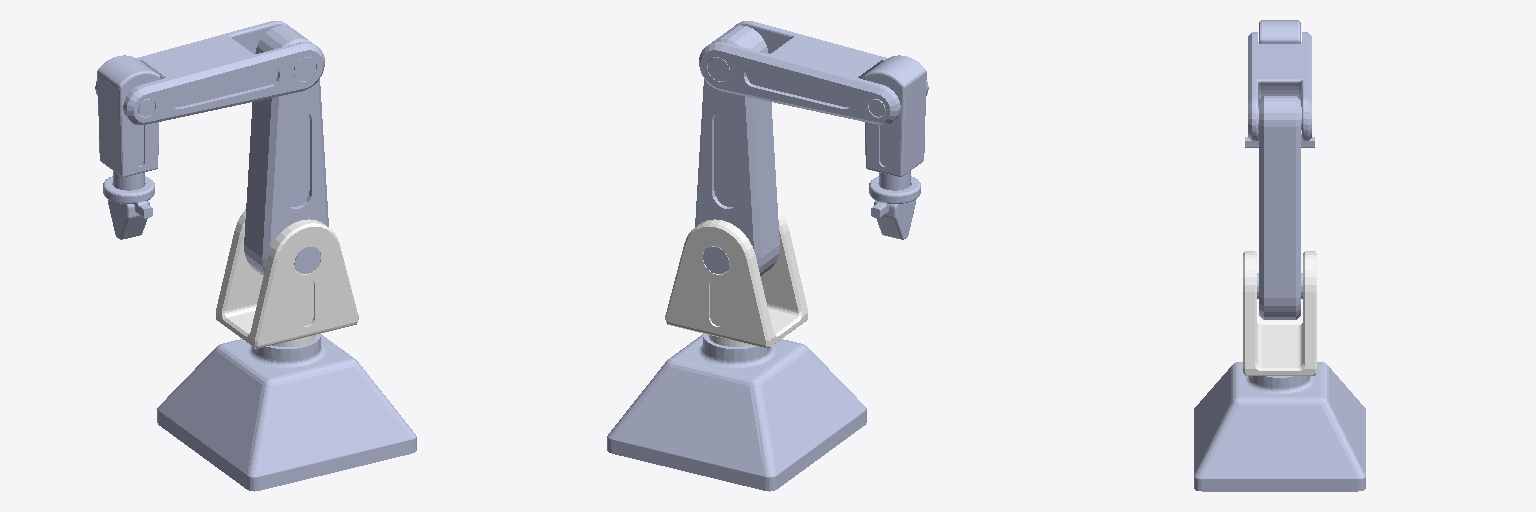
URDF robot description (robot_arm_urdf.SLDASM):
<?xml version="1.0" encoding="utf-8"?>
<!-- This URDF was automatically created by SolidWorks to URDF Exporter! Originally created by [author] ([email redacted]) 
     Commit Version: 1.6.0-4-g7f85cfe  Build Version: 1.6.7995.38578
     For more information, please see http://wiki.ros.org/sw_urdf_exporter -->
<robot
  name="robot_arm_urdf.SLDASM">
  <link
    name="base_link">
    <inertial>
      <origin
        xyz="1.8041E-16 -6.6678E-18 0.073876"
        rpy="0 0 0" />
      <mass
        value="17.147" />
      <inertia
        ixx="0.192"
        ixy="-4.9423E-10"
        ixz="4.9848E-17"
        iyy="0.192"
        iyz="-3.3494E-18"
        izz="0.29544" />
    </inertial>
    <visual>
      <origin
        xyz="0 0 0"
        rpy="0 0 0" />
      <geometry>
        <mesh
          filename="package://robot_arm_urdf.SLDASM/meshes/base_link.STL" />
      </geometry>
      <material
        name="">
        <color
          rgba="0.79216 0.81961 0.93333 1" />
      </material>
    </visual>
    <collision>
      <origin
        xyz="0 0 0"
        rpy="0 0 0" />
      <geometry>
        <mesh
          filename="package://robot_arm_urdf.SLDASM/meshes/base_link.STL" />
      </geometry>
    </collision>
  </link>
  <link
    name="link_1">
    <inertial>
      <origin
        xyz="-2.5729E-14 0.11047 -7.8988E-11"
        rpy="0 0 0" />
      <mass
        value="3.0905" />
      <inertia
        ixx="0.026302"
        ixy="-2.5304E-15"
        ixz="-1.4177E-12"
        iyy="0.019632"
        iyz="-7.4535E-12"
        izz="0.025388" />
    </inertial>
    <visual>
      <origin
        xyz="0 0 0"
        rpy="0 0 0" />
      <geometry>
        <mesh
          filename="package://robot_arm_urdf.SLDASM/meshes/link_1.STL" />
      </geometry>
      <material
        name="">
        <color
          rgba="1 1 1 1" />
      </material>
    </visual>
    <collision>
      <origin
        xyz="0 0 0"
        rpy="0 0 0" />
      <geometry>
        <mesh
          filename="package://robot_arm_urdf.SLDASM/meshes/link_1.STL" />
      </geometry>
    </collision>
  </link>
  <joint
    name="joint_1"
    type="revolute">
    <origin
      xyz="0 0 0.2"
      rpy="1.5708 0 0" />
    <parent
      link="base_link" />
    <child
      link="link_1" />
    <axis
      xyz="0 1 0" />
    <limit
      lower="0"
      upper="3.142"
      effort="300"
      velocity="3" />
  </joint>
  <link
    name="link_2">
    <inertial>
      <origin
        xyz="0 0.16752 2.949E-17"
        rpy="0 0 0" />
      <mass
        value="5.5867" />
      <inertia
        ixx="0.12632"
        ixy="1.5322E-18"
        ixz="1.6666E-19"
        iyy="0.011401"
        iyz="4.7218E-18"
        izz="0.12911" />
    </inertial>
    <visual>
      <origin
        xyz="0 0 0"
        rpy="0 0 0" />
      <geometry>
        <mesh
          filename="package://robot_arm_urdf.SLDASM/meshes/link_2.STL" />
      </geometry>
      <material
        name="">
        <color
          rgba="0.79216 0.81961 0.93333 1" />
      </material>
    </visual>
    <collision>
      <origin
        xyz="0 0 0"
        rpy="0 0 0" />
      <geometry>
        <mesh
          filename="package://robot_arm_urdf.SLDASM/meshes/link_2.STL" />
      </geometry>
    </collision>
  </link>
  <joint
    name="joint_2"
    type="revolute">
    <origin
      xyz="0 0.205 0"
      rpy="0 0 0" />
    <parent
      link="link_1" />
    <child
      link="link_2" />
    <axis
      xyz="0 0 1" />
    <limit
      lower="-1.57"
      upper="1.57"
      effort="200"
      velocity="3" />
  </joint>
  <link
    name="link_3">
    <inertial>
      <origin
        xyz="-0.17893 1.1102E-16 -1.5179E-18"
        rpy="0 0 0" />
      <mass
        value="2.8262" />
      <inertia
        ixx="0.0074041"
        ixy="-8.3207E-18"
        ixz="4.0036E-17"
        iyy="0.028552"
        iyz="-3.4736E-10"
        izz="0.025128" />
    </inertial>
    <visual>
      <origin
        xyz="0 0 0"
        rpy="0 0 0" />
      <geometry>
        <mesh
          filename="package://robot_arm_urdf.SLDASM/meshes/link_3.STL" />
      </geometry>
      <material
        name="">
        <color
          rgba="0.79216 0.81961 0.93333 1" />
      </material>
    </visual>
    <collision>
      <origin
        xyz="0 0 0"
        rpy="0 0 0" />
      <geometry>
        <mesh
          filename="package://robot_arm_urdf.SLDASM/meshes/link_3.STL" />
      </geometry>
    </collision>
  </link>
  <joint
    name="joint_3"
    type="revolute">
    <origin
      xyz="0 0.4 0"
      rpy="0 0 0" />
    <parent
      link="link_2" />
    <child
      link="link_3" />
    <axis
      xyz="0 0 1" />
    <limit
      lower="0"
      upper="3.142"
      effort="200"
      velocity="3" />
  </joint>
  <link
    name="link_4">
    <inertial>
      <origin
        xyz="-0.051672 -5.5511E-17 5.4752E-18"
        rpy="0 0 0" />
      <mass
        value="1.8097" />
      <inertia
        ixx="0.0023112"
        ixy="-6.13E-18"
        ixz="2.5903E-19"
        iyy="0.0096102"
        iyz="-1.1374E-19"
        izz="0.0093908" />
    </inertial>
    <visual>
      <origin
        xyz="0 0 0"
        rpy="0 0 0" />
      <geometry>
        <mesh
          filename="package://robot_arm_urdf.SLDASM/meshes/link_4.STL" />
      </geometry>
      <material
        name="">
        <color
          rgba="0.79216 0.81961 0.93333 1" />
      </material>
    </visual>
    <collision>
      <origin
        xyz="0 0 0"
        rpy="0 0 0" />
      <geometry>
        <mesh
          filename="package://robot_arm_urdf.SLDASM/meshes/link_4.STL" />
      </geometry>
    </collision>
  </link>
  <joint
    name="joint_4"
    type="revolute">
    <origin
      xyz="-0.35 0 0"
      rpy="0 0 1.5708" />
    <parent
      link="link_3" />
    <child
      link="link_4" />
    <axis
      xyz="0 0 1" />
    <limit
      lower="0"
      upper="-3.142"
      effort="200"
      velocity="3" />
  </joint>
  <link
    name="link_5">
    <inertial>
      <origin
        xyz="-0.018544 0 3.1659E-17"
        rpy="0 0 0" />
      <mass
        value="0.19053" />
      <inertia
        ixx="0.00030197"
        ixy="-5.4657E-20"
        ixz="3.6426E-21"
        iyy="0.00022817"
        iyz="-1.9664E-11"
        izz="0.00011843" />
    </inertial>
    <visual>
      <origin
        xyz="0 0 0"
        rpy="0 0 0" />
      <geometry>
        <mesh
          filename="package://robot_arm_urdf.SLDASM/meshes/link_5.STL" />
      </geometry>
      <material
        name="">
        <color
          rgba="0.79216 0.81961 0.93333 1" />
      </material>
    </visual>
    <collision>
      <origin
        xyz="0 0 0"
        rpy="0 0 0" />
      <geometry>
        <mesh
          filename="package://robot_arm_urdf.SLDASM/meshes/link_5.STL" />
      </geometry>
    </collision>
  </link>
  <joint
    name="joint_5"
    type="revolute">
    <origin
      xyz="-0.188 0 0"
      rpy="0 0 0" />
    <parent
      link="link_4" />
    <child
      link="link_5" />
    <axis
      xyz="-1 0 0" />
    <limit
      lower="0"
      upper="3.142"
      effort="200"
      velocity="3" />
  </joint>
  <link
    name="link_6">
    <inertial>
      <origin
        xyz="-0.60237 0.4 -0.016013"
        rpy="0 0 0" />
      <mass
        value="0.11653" />
      <inertia
        ixx="3.9246E-05"
        ixy="6.5415E-20"
        ixz="1.0258E-05"
        iyy="7.1189E-05"
        iyz="-5.274E-20"
        izz="8.4875E-05" />
    </inertial>
    <visual>
      <origin
        xyz="0 0 0"
        rpy="0 0 0" />
      <geometry>
        <mesh
          filename="package://robot_arm_urdf.SLDASM/meshes/link_6.STL" />
      </geometry>
      <material
        name="">
        <color
          rgba="0.79216 0.81961 0.93333 1" />
      </material>
    </visual>
    <collision>
      <origin
        xyz="0 0 0"
        rpy="0 0 0" />
      <geometry>
        <mesh
          filename="package://robot_arm_urdf.SLDASM/meshes/link_6.STL" />
      </geometry>
    </collision>
  </link>
  <joint
    name="joint_6"
    type="prismatic">
    <origin
      xyz="0.54 0.4 0"
      rpy="3.1416 0 0" />
    <parent
      link="link_5" />
    <child
      link="link_6" />
    <axis
      xyz="0 0 1" />
    <limit
      lower="-0.03"
      upper="0"
      effort="100"
      velocity="3" />
  </joint>
  <link
    name="link_7">
    <inertial>
      <origin
        xyz="-0.60237 0.4 -0.016013"
        rpy="0 0 0" />
      <mass
        value="0.11653" />
      <inertia
        ixx="3.9246E-05"
        ixy="3.4641E-20"
        ixz="1.0258E-05"
        iyy="7.1189E-05"
        iyz="-2.7813E-20"
        izz="8.4875E-05" />
    </inertial>
    <visual>
      <origin
        xyz="0 0 0"
        rpy="0 0 0" />
      <geometry>
        <mesh
          filename="package://robot_arm_urdf.SLDASM/meshes/link_7.STL" />
      </geometry>
      <material
        name="">
        <color
          rgba="0.79216 0.81961 0.93333 1" />
      </material>
    </visual>
    <collision>
      <origin
        xyz="0 0 0"
        rpy="0 0 0" />
      <geometry>
        <mesh
          filename="package://robot_arm_urdf.SLDASM/meshes/link_7.STL" />
      </geometry>
    </collision>
  </link>
  <joint
    name="joint_7"
    type="prismatic">
    <origin
      xyz="0.54 -0.4 0"
      rpy="0 0 0" />
    <parent
      link="link_5" />
    <child
      link="link_7" />
    <axis
      xyz="0 0 -1" />
    <limit
      lower="0"
      upper="0.03"
      effort="100"
      velocity="3" />
  </joint>
</robot>

--- Facts derived from the render (not from the file) ---
Views: 3 orthographic renders of the robot side by side, from view 1: azimuth 30°, elevation 25°; view 2: azimuth 150°, elevation 25°; view 3: azimuth 270°, elevation 25°.
Model robot_arm_urdf.SLDASM with 8 links and 7 joints (5 revolute, 2 prismatic), rooted at base_link, posed all joints at 0.
Visible links, largest first — view 1: base_link, link_2, link_1, link_3, link_4, link_5, link_6; view 2: base_link, link_2, link_1, link_3, link_4, link_5, link_7; view 3: base_link, link_2, link_1, link_3, link_4.
Link boxes in pixels (x1,y1,x2,y2): base_link: (157,334,416,491); link_2: (244,25,328,275); link_1: (216,209,358,348); link_3: (95,21,324,124); link_4: (97,55,160,190); link_5: (103,176,154,218); link_6: (118,200,149,239); base_link: (607,334,866,491); link_2: (695,25,779,275); link_1: (665,209,807,348); link_3: (699,21,928,124); link_4: (863,55,926,190); link_5: (869,176,920,218); link_7: (874,200,905,239); base_link: (1194,362,1365,491); link_2: (1257,96,1302,319); link_1: (1243,251,1316,375); link_3: (1248,32,1311,141); link_4: (1258,20,1301,43).
Size in the robot's own frame: 0.5866 by 0.3732 by 0.87 metres.
Meshes: 8 distinct files referenced, 8 mesh visuals loaded (8 binary STL).